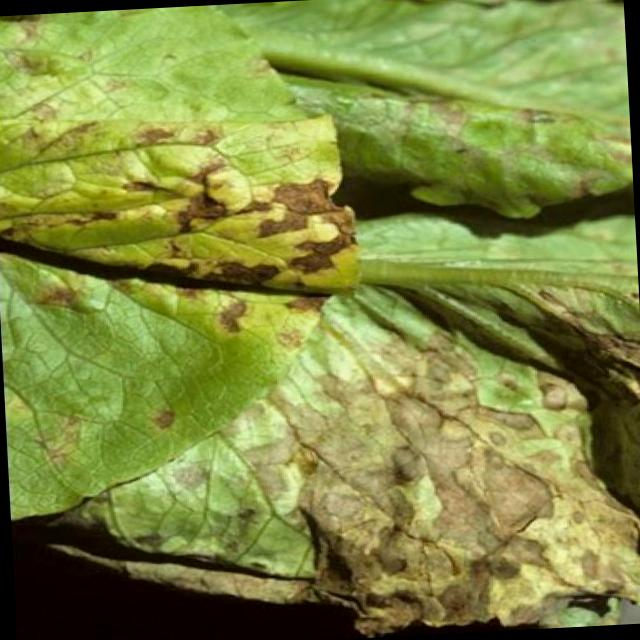Septoria_Blight: (26, 116, 337, 350)
